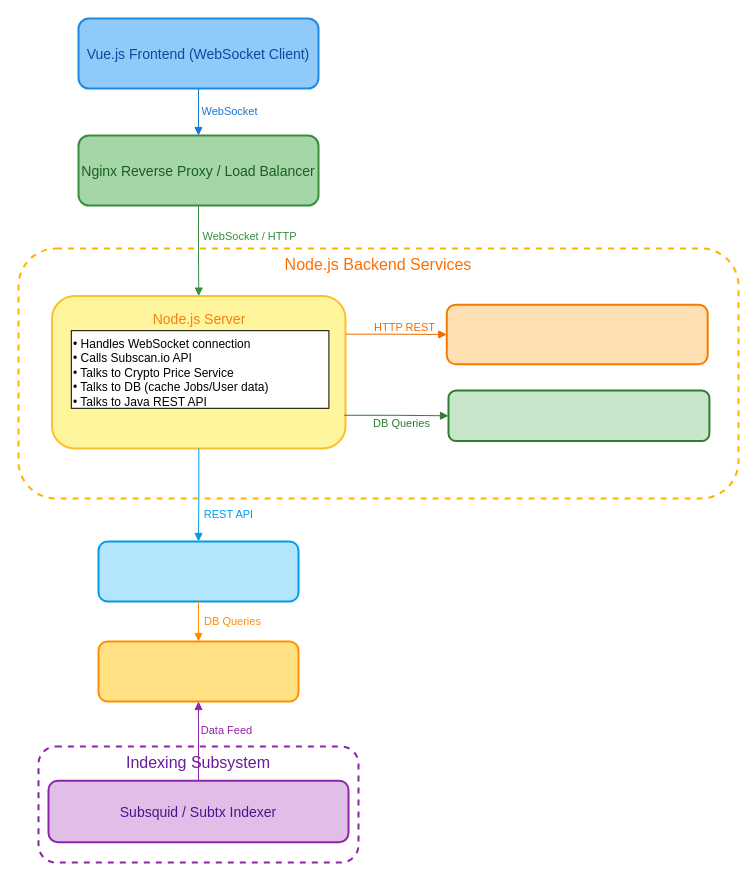
The diagram is 756 pixels wide and 880 high, and some of its shapes have lost their labels. Each missing label, with the centre of its shape:
"Crypto Price REST Service (Node.js)" goes at (x=576, y=334).
"Java REST API Server" goes at (x=198, y=571).
"Postgres DB" goes at (x=198, y=671).
"Postgres DB (cache Jobs/User data)" goes at (x=578, y=415).
